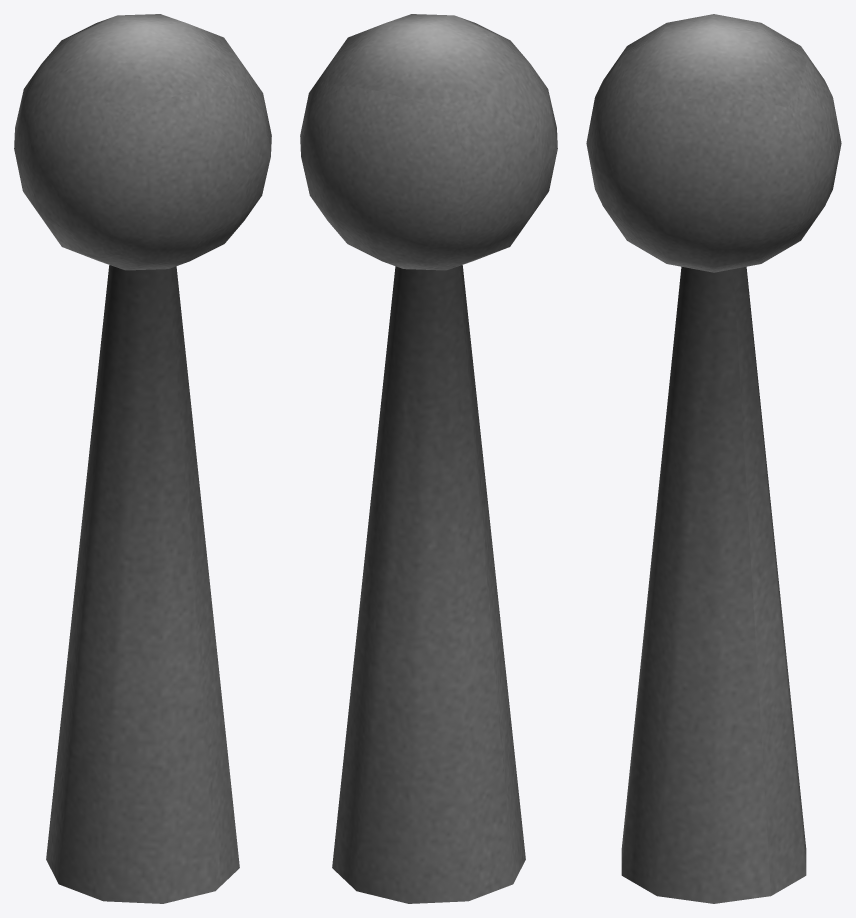
The model's file is AntennaModel.fbx.
The picture shows the model from 3 angles, left to right: view 1: azimuth 30°, elevation 25°; view 2: azimuth 150°, elevation 25°; view 3: azimuth 270°, elevation 25°; orthographic projection.
Parts seen in each view (by area): view 1: polySurface4; view 2: polySurface4; view 3: polySurface4.
Part boxes in pixels (<box>): polySurface4: <box>14,14,271,903</box>; polySurface4: <box>300,14,557,903</box>; polySurface4: <box>586,14,841,903</box>.
Bounding box in the file's own units: 0.3847 × 1.39 × 0.3847.
1 material, 1 textured.
